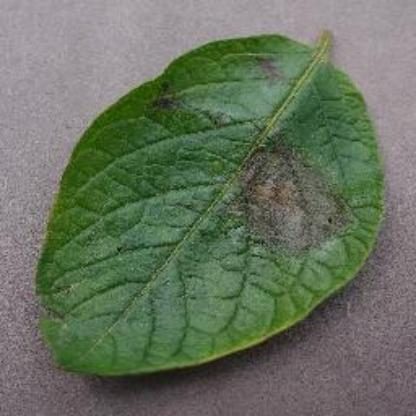Late-Blight: (24, 19, 398, 381)
